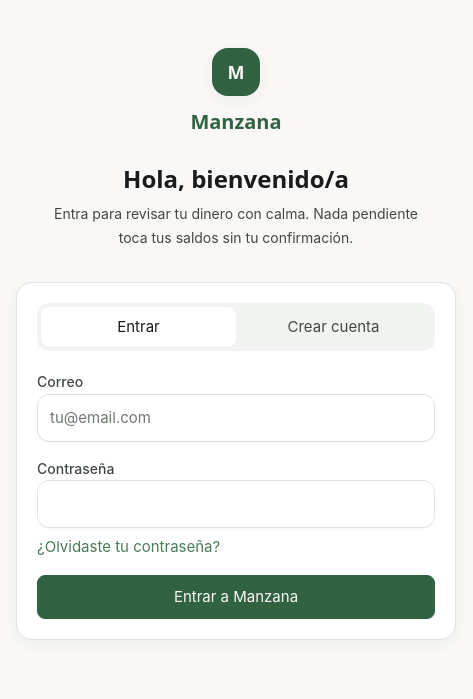
Test: AuthScreen — AC-AUTH-01/RUL-AUTH-05: nunca propaga el mensaje del proveedor › RUL-HECHO-02: si el error no trajera 'code', el mapeo caería al genérico, no a ERR-AUTH-01
This screenshot has width=473, height=699.
Type "marco@ejemplo.com" into the field labelled "Correo" at (236, 418), box [37, 394, 435, 442]
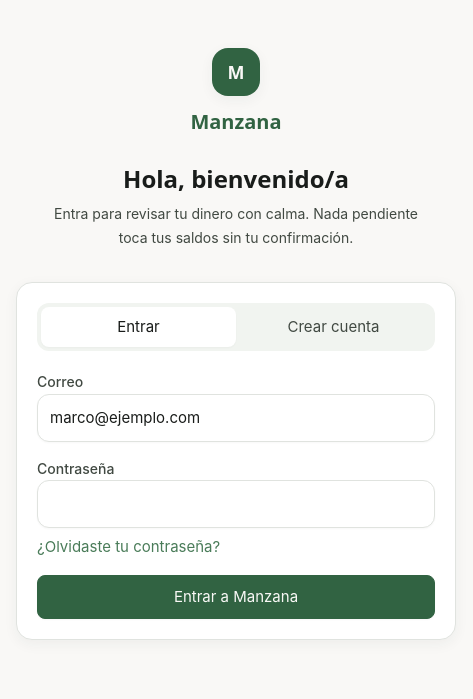
Type "unacontrasenalarga" into the password field labelled "Contraseña" at (236, 504), box [37, 480, 435, 528]
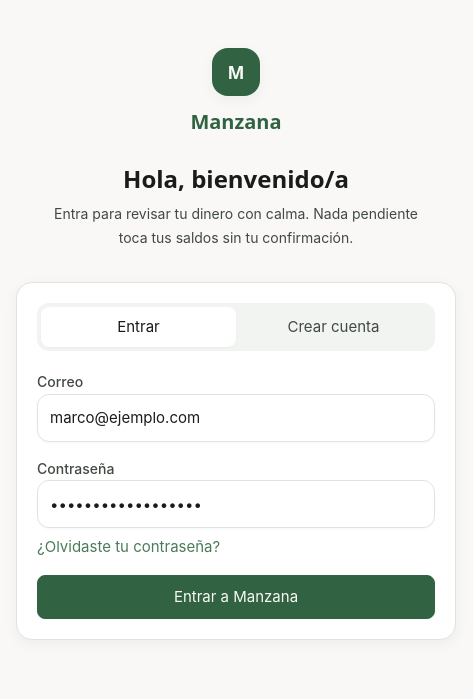
Click the button "Entrar a Manzana" at (236, 597), box [37, 575, 435, 619]
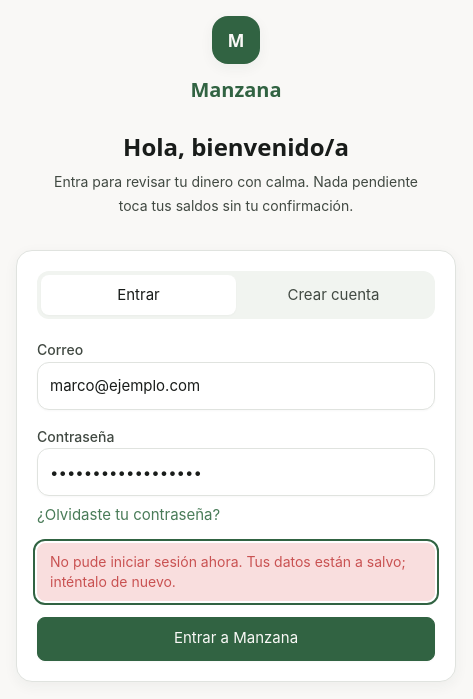
Check: the message shows "No pude iniciar sesión ahora", box [50, 552, 406, 590]
